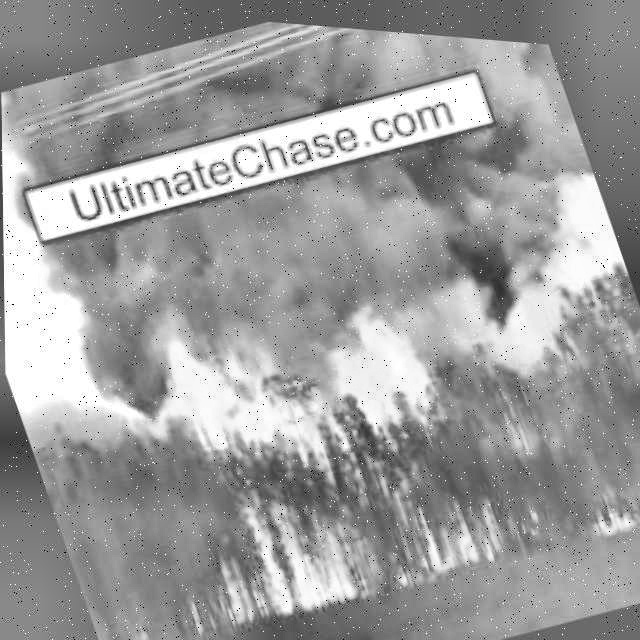Fire: (145, 255, 499, 634), (591, 480, 640, 527), (96, 635, 112, 640)
Smoke: (22, 64, 610, 394), (0, 0, 552, 226), (412, 210, 632, 397), (85, 340, 159, 431)
